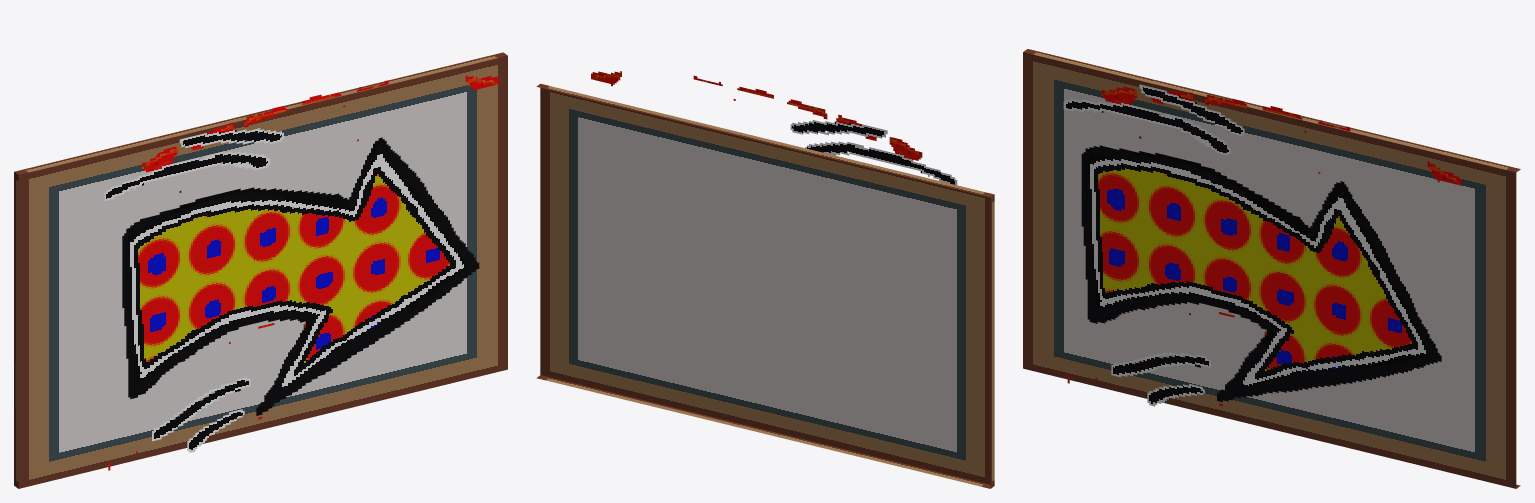
File: arrow_sign.gltf
3 renders of one model, left to right at view 1: azimuth 30°, elevation 25°; view 2: azimuth 150°, elevation 25°; view 3: azimuth 330°, elevation 25°, orthographic. The views are drawn at different scales.
Visible parts, largest first — view 1: arrow sign; view 2: arrow sign; view 3: arrow sign.
Part boxes in pixels (x1,y1,x2,y2): arrow sign: (14, 52, 507, 488); arrow sign: (536, 71, 994, 488); arrow sign: (1023, 49, 1520, 488).
Bounding box in the file's own units: 15.5 × 11.5 × 1.5.
Materials: 1 (1 with a texture image).
